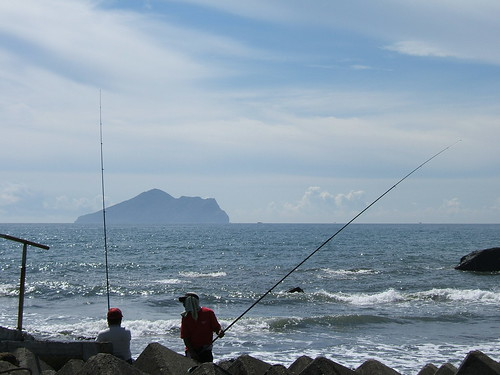turtleIsland: (78, 187, 229, 228)
